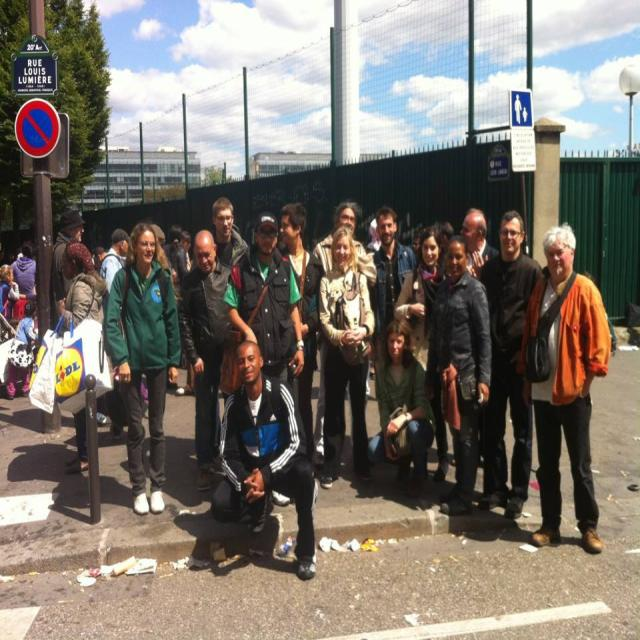body: (515, 218, 613, 556), (208, 338, 319, 581), (466, 208, 545, 522), (102, 220, 182, 517), (25, 241, 117, 477), (423, 233, 495, 515), (311, 201, 378, 461), (315, 225, 377, 493), (220, 209, 305, 385), (176, 229, 233, 491), (365, 315, 436, 495), (276, 202, 324, 468), (364, 204, 419, 377), (392, 224, 454, 375), (172, 229, 199, 397), (50, 207, 92, 312), (1, 300, 43, 400), (362, 219, 455, 256), (459, 207, 501, 279), (210, 196, 249, 272), (98, 229, 130, 314), (9, 243, 37, 298), (162, 225, 191, 272), (0, 262, 21, 325), (92, 244, 110, 273)
